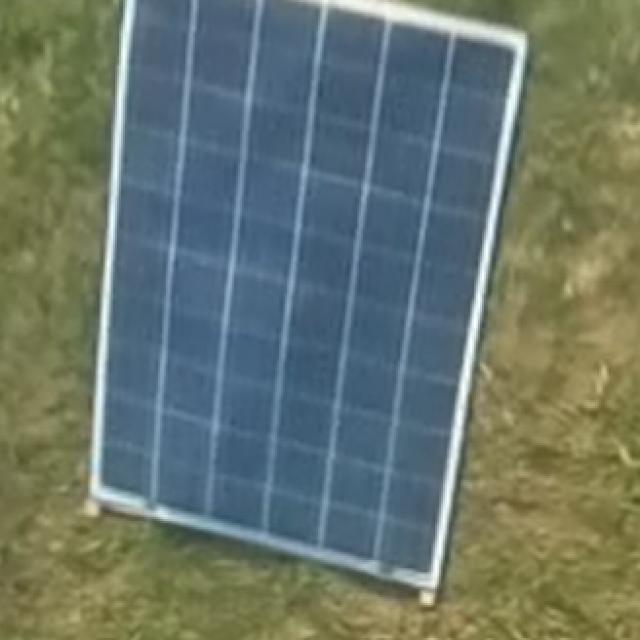no faulty: (98, 0, 534, 587)
